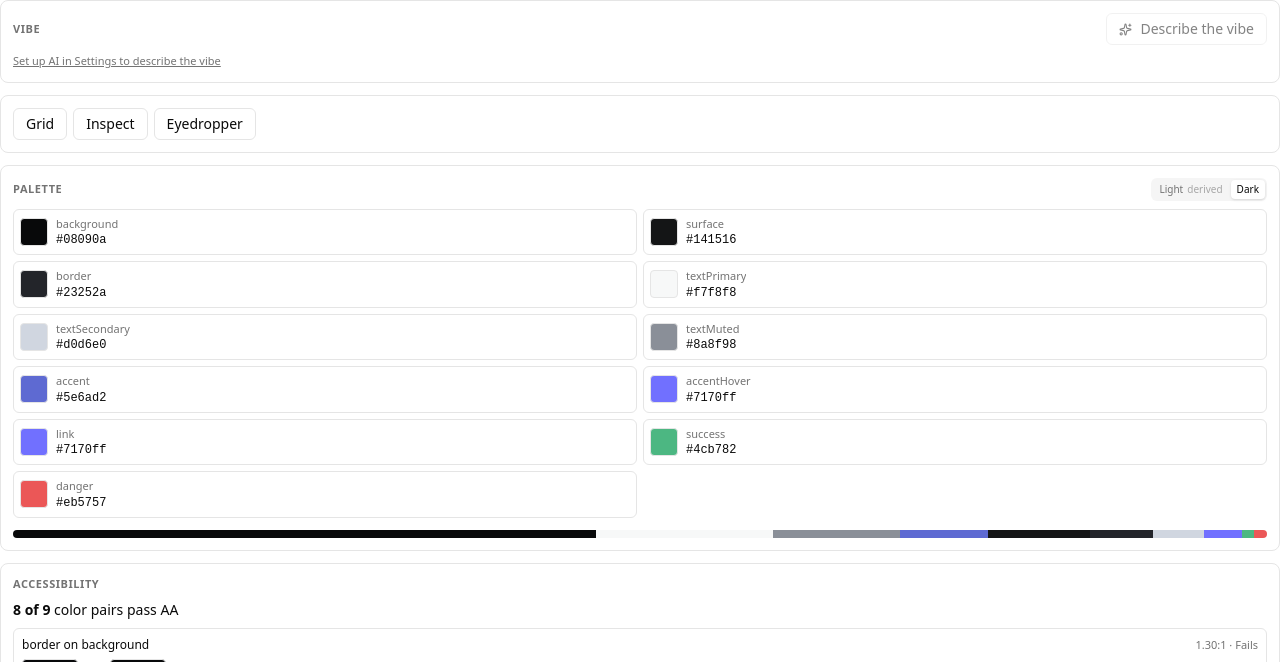
T1.38 Inspect Port listener (SPC-27) › T1.38 the overlay Port connecting during overlay.set (the real order) is read
This screenshot has width=1280, height=662.
Click the button "Inspect": (110, 124) [73, 108, 148, 140]
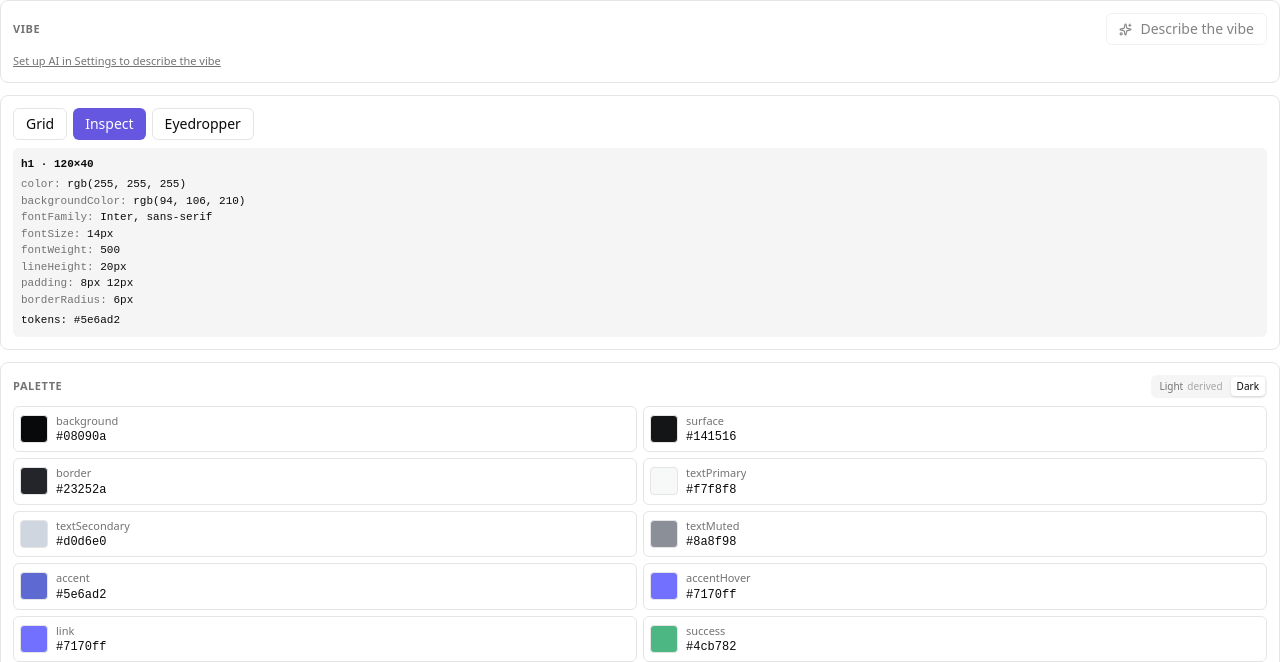
Result: the element with test id "inspector-card" shows "h1 · 120×40" at [13, 148, 1267, 336]
